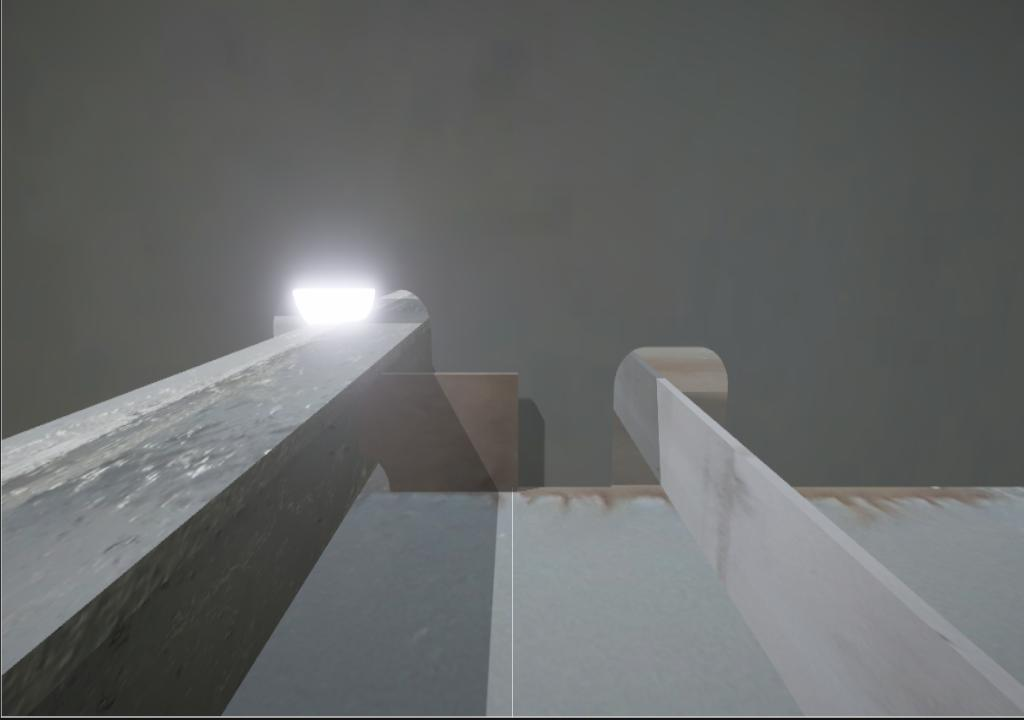fillet_yong_jeop_jang: (520, 478, 621, 494)
plate_CP02: (357, 371, 521, 495)
